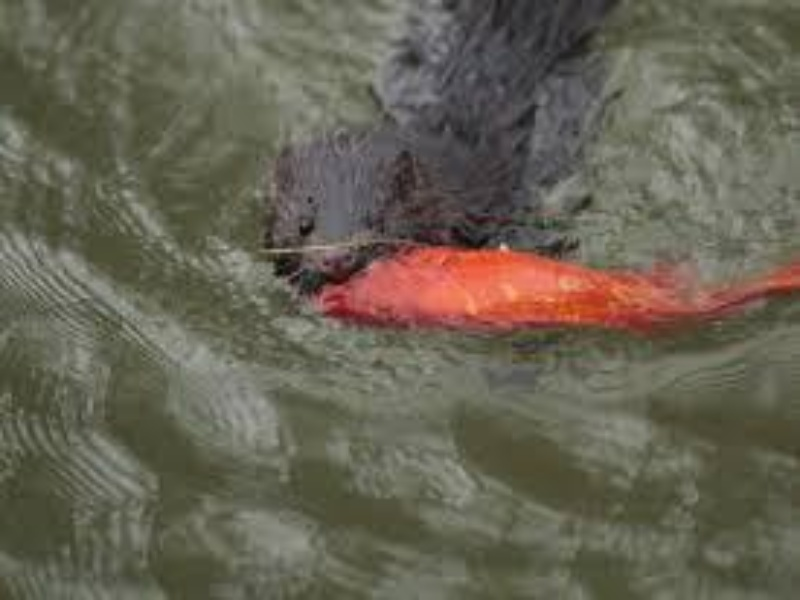minkish: (265, 3, 632, 289)
